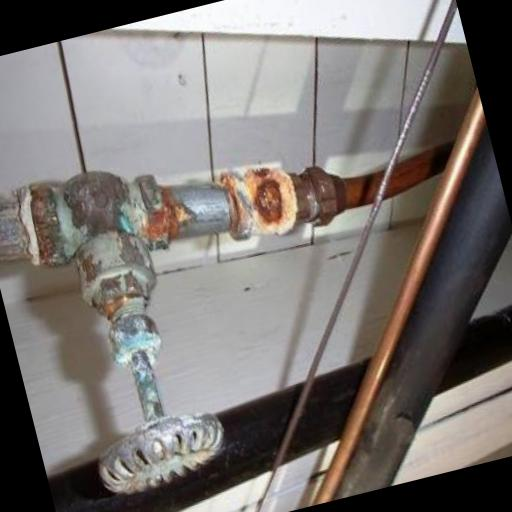segmentation: (299, 218, 439, 508), (57, 169, 191, 267), (345, 146, 451, 209), (28, 183, 62, 265), (297, 174, 344, 220), (252, 178, 289, 228), (100, 286, 126, 320)
